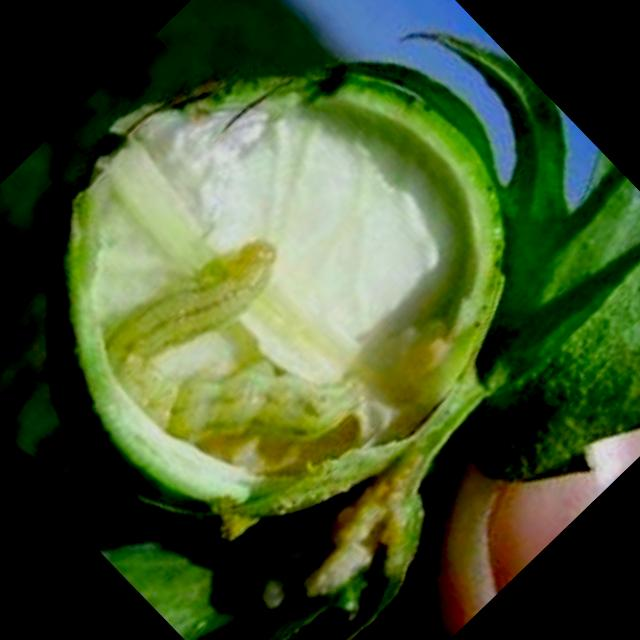Cotton bollworm: (57, 185, 433, 561)
